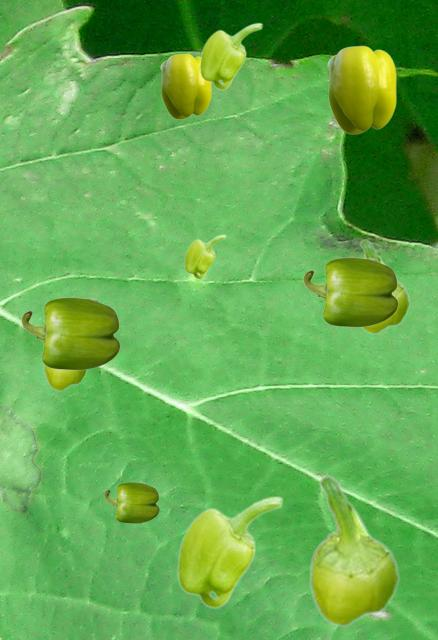bell_pepper: (308, 475, 399, 626), (176, 495, 283, 608), (21, 297, 119, 369), (303, 257, 397, 326), (327, 45, 395, 133), (357, 239, 409, 333), (199, 22, 262, 89), (160, 53, 210, 118), (104, 482, 158, 522), (184, 234, 225, 278), (43, 365, 87, 390)
